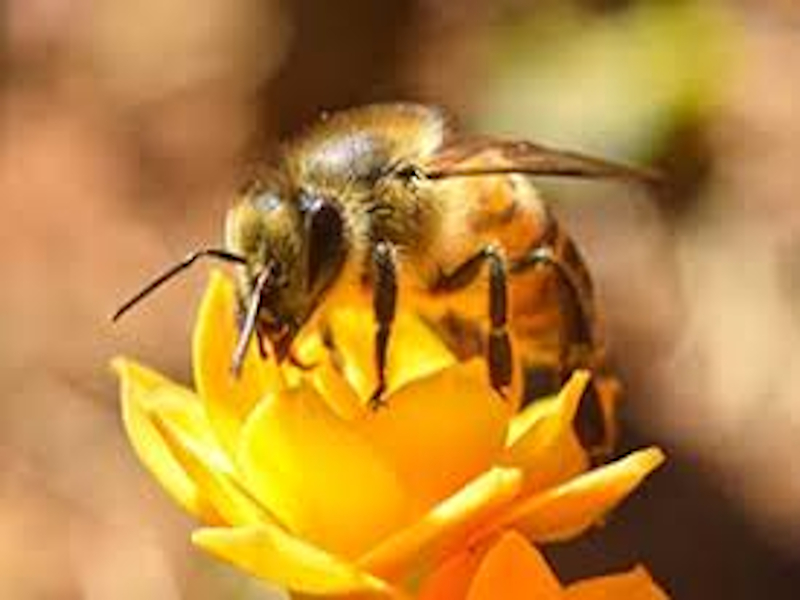abeja: (36, 76, 679, 434)
